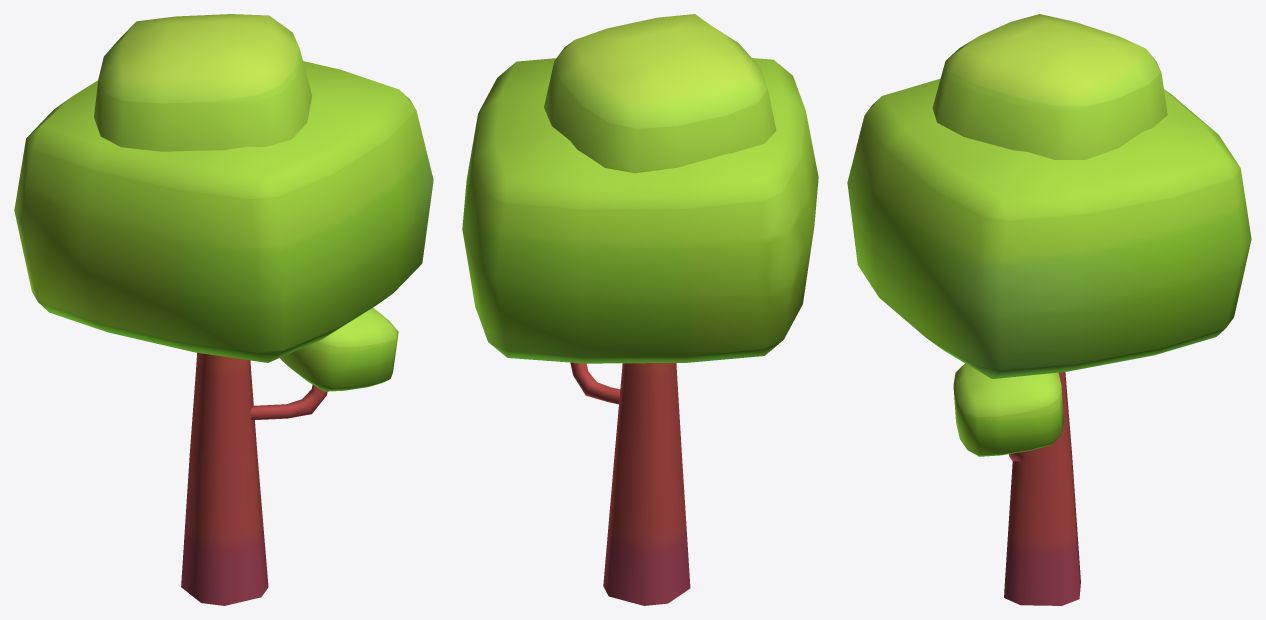
The model's file is Tree.fbx.
3 renders of one model, left to right at view 1: azimuth 30°, elevation 25°; view 2: azimuth 150°, elevation 25°; view 3: azimuth 270°, elevation 25°, orthographic. The views are drawn at different scales.
Visible parts, largest first — view 1: Tree; view 2: Tree; view 3: Tree.
Part boxes in pixels (x1,y1,x2,y2): Tree: (14,14,433,605); Tree: (462,14,818,605); Tree: (847,14,1251,605).
Bounding box in the file's own units: 56.15 × 83.72 × 56.15.
